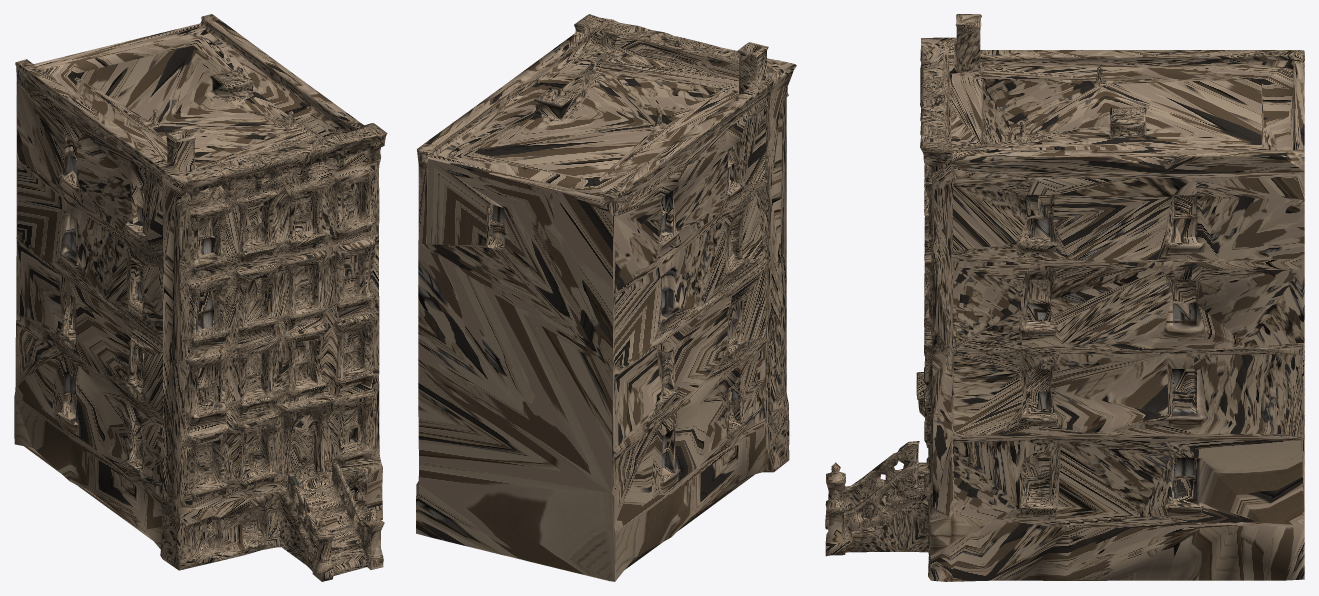
The model's file is semantic-primitive-v01.fbx.
The picture shows the model from 3 angles, left to right: view 1: azimuth 30°, elevation 25°; view 2: azimuth 150°, elevation 25°; view 3: azimuth 270°, elevation 25°; orthographic projection. The views are drawn at different scales.
Parts seen in each view (by area): view 1: CF_PROXY_BUILDING_GENERATED; view 2: CF_PROXY_BUILDING_GENERATED; view 3: CF_PROXY_BUILDING_GENERATED.
Part boxes in pixels (left/top/right/bottom): CF_PROXY_BUILDING_GENERATED: left=14, top=14, right=387, bottom=581; CF_PROXY_BUILDING_GENERATED: left=416, top=14, right=796, bottom=581; CF_PROXY_BUILDING_GENERATED: left=825, top=14, right=1304, bottom=581.
Bounding box in the file's own units: 783 × 1500 × 1408.
